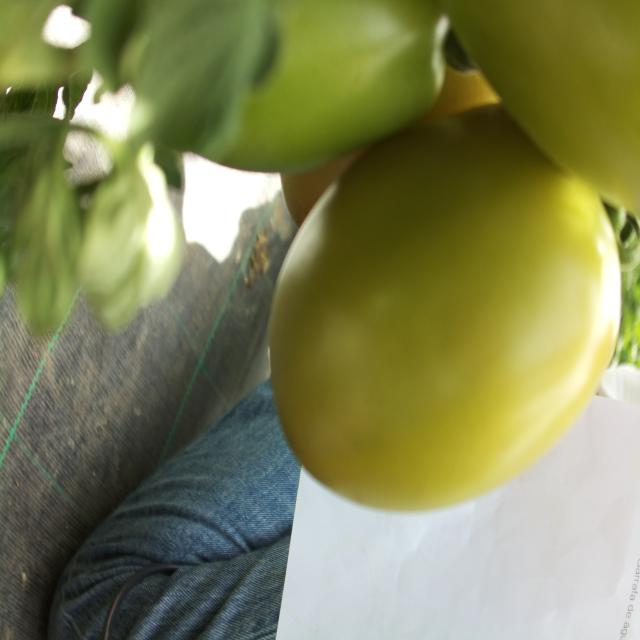yesil: (245, 170, 617, 510)
